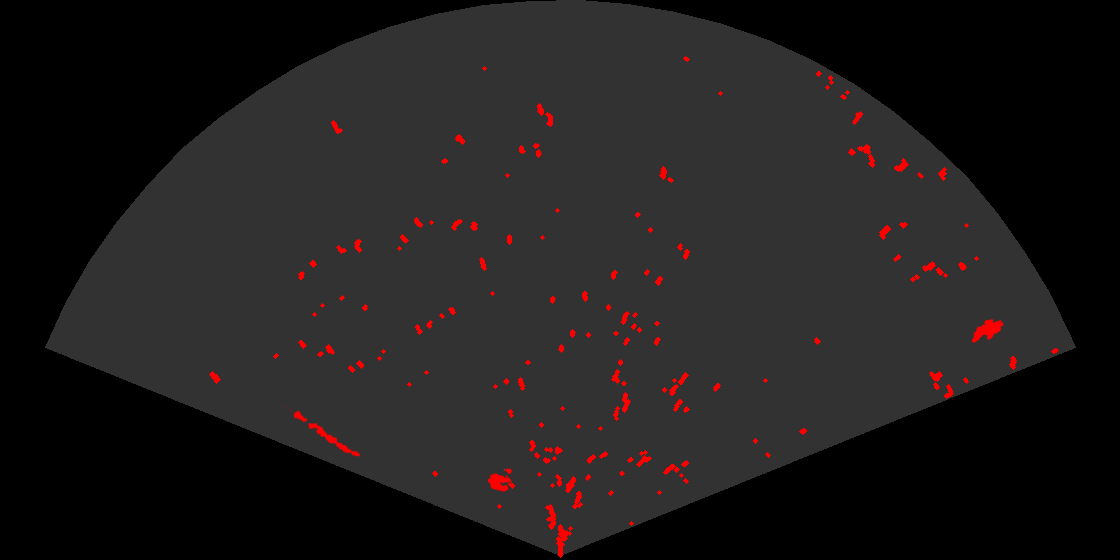AUV: (970, 317, 1005, 344)
ball: (486, 467, 514, 494)
chain: (283, 403, 362, 458)
